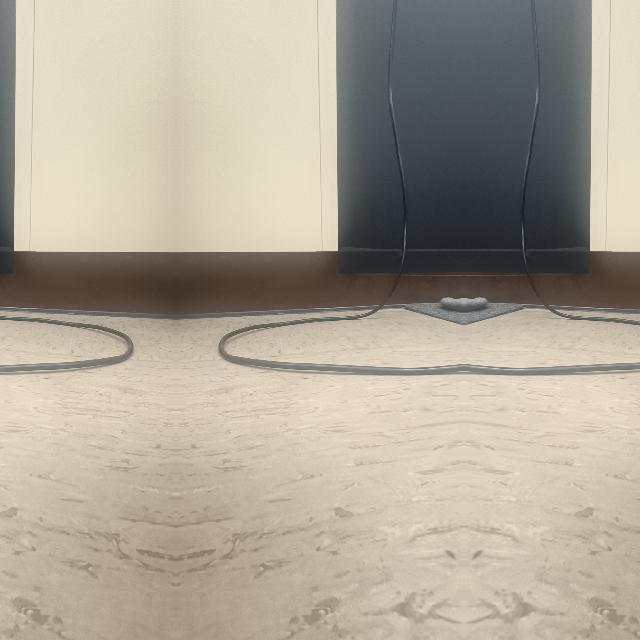obstacle: (215, 306, 463, 378), (464, 306, 640, 378), (0, 306, 135, 378)
